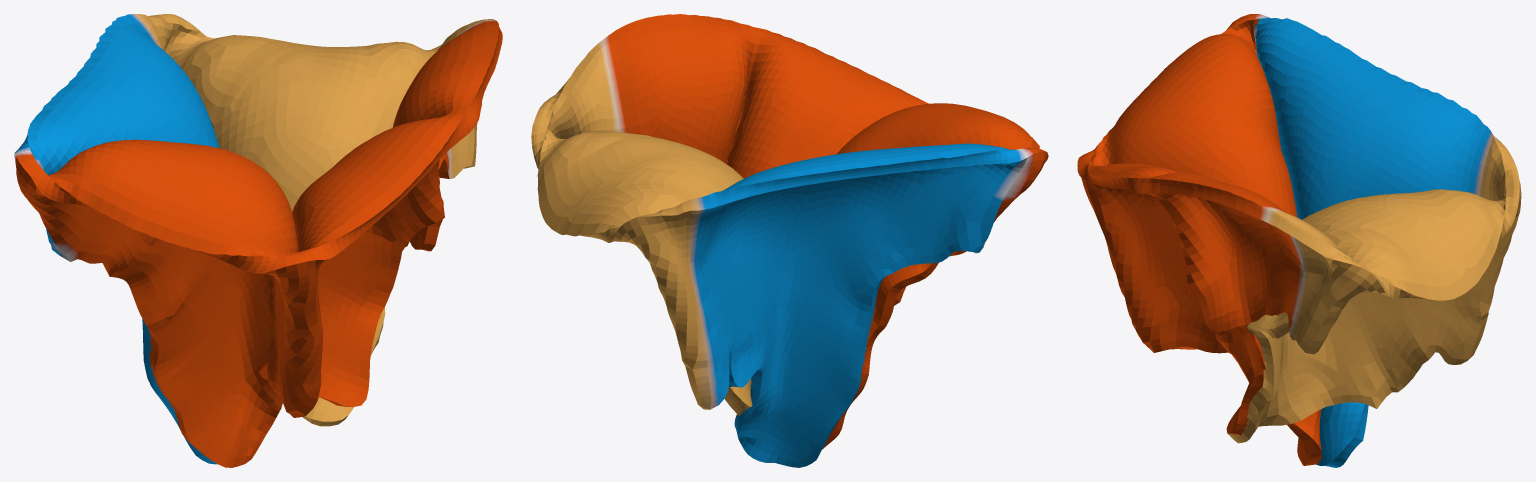
The model's file is 1083_elset_AR.glb.
The picture shows the model from 3 angles, left to right: view 1: azimuth 30°, elevation 25°; view 2: azimuth 150°, elevation 25°; view 3: azimuth 270°, elevation 25°; orthographic projection. The views are drawn at different scales.
Parts seen in each view (by area): view 1: 1083_elset_AR; view 2: 1083_elset_AR; view 3: 1083_elset_AR.
Part boxes in pixels (<box>): 1083_elset_AR: <box>14,14,502,467</box>; 1083_elset_AR: <box>531,14,1048,467</box>; 1083_elset_AR: <box>1077,14,1521,467</box>.
Size of the model in its own units: 1.37 by 1.06 by 1.16.
